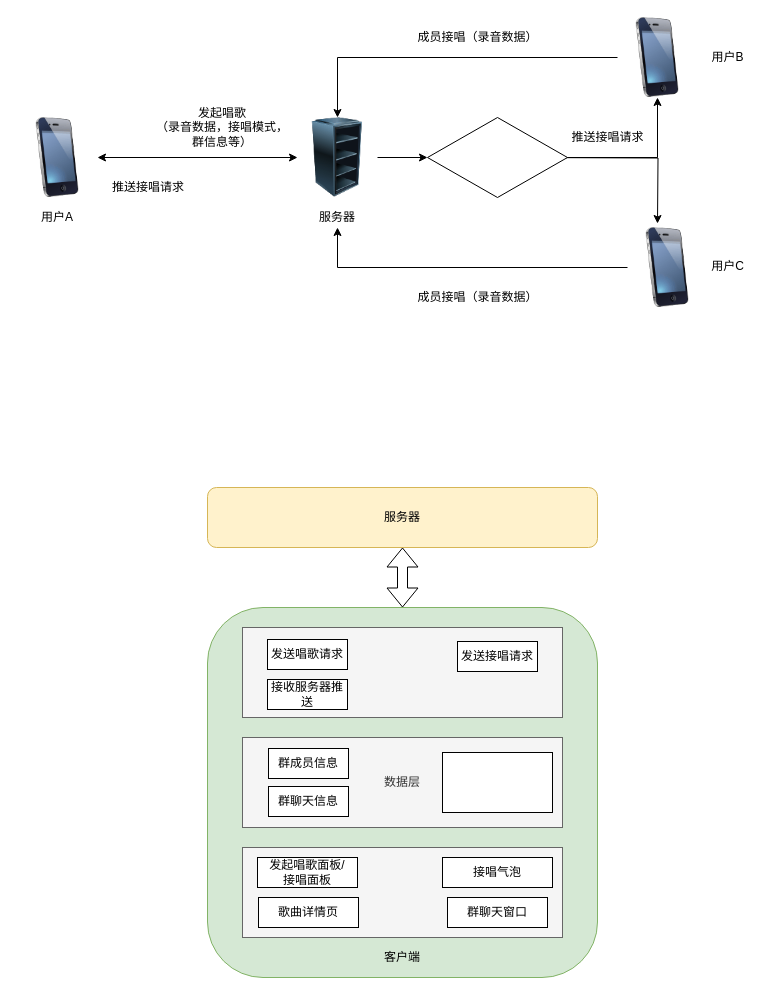
Image size: 769x995. Some labels were removed from this diagram. Each missing label, with the box of its shape:
匹配歌曲名/ 查找群成员等: (426, 116, 568, 198)
展示层: (242, 846, 562, 938)
接唱数据 （录音，接唱模式，歌曲信息等）: (442, 752, 552, 812)
网络层: (242, 626, 562, 718)
